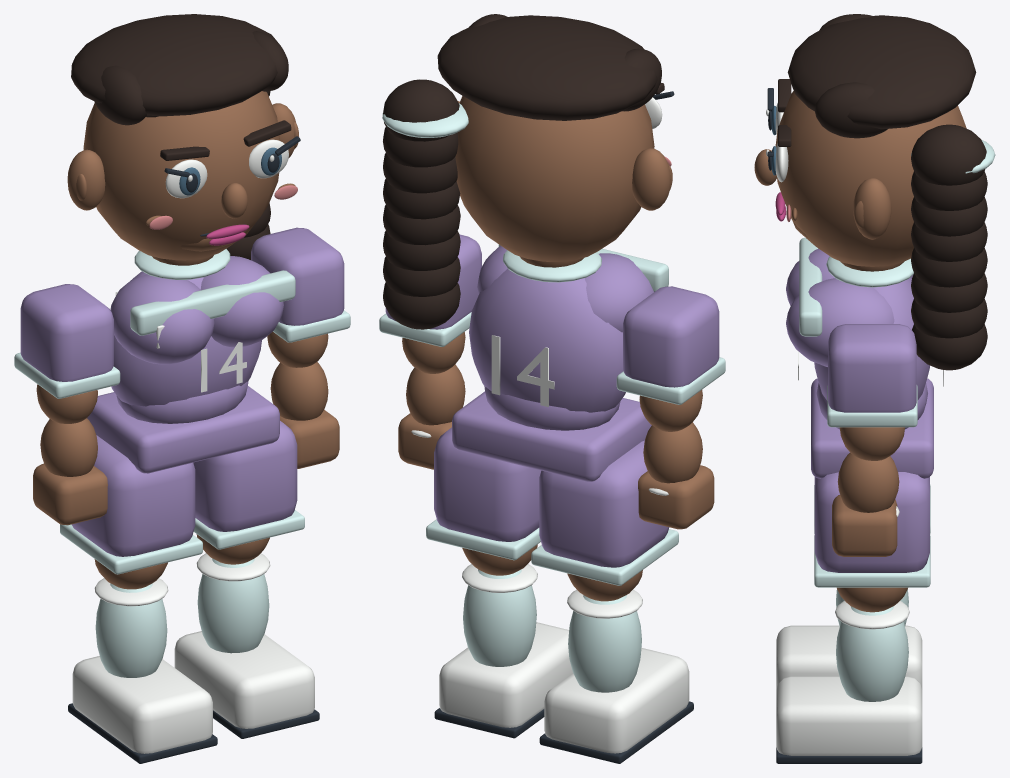
Rendered from Nehir.fbx.
3 views of the same model, side by side, from view 1: azimuth 30°, elevation 25°; view 2: azimuth 150°, elevation 25°; view 3: azimuth 270°, elevation 25° (orthographic). The views are drawn at different scales.
Visible parts, largest first — view 1: Head, HairCap, Boot_Left, Boot_Right, Shorts_Left, Waist, Shorts_Right, Sleeve_Left, Sleeve_Right, FittedTorso, TailoredChest, Sock_Left (+30 smaller); view 2: Head, HairCap, FittedTorso, Shorts_Left, Boot_Left, Waist, Shorts_Right, Sleeve_Left, Boot_Right, Sock_Left, Sock_Right, Hand_Left (+33 smaller); view 3: Head, HairCap, Boot_Right, Sleeve_Right, Shorts_Right, Sock_Right, TailoredChest.001, Waist, Boot_Left, LongCurlyPonytail, Hand_Right, Forearm_Right (+22 smaller).
Boxes of the visible parts, x1,y1,x2,y2 form: Head: (83, 91, 279, 260); HairCap: (71, 14, 280, 116); Boot_Left: (72, 656, 212, 753); Boot_Right: (174, 631, 314, 728); Shorts_Left: (71, 435, 195, 556); Waist: (87, 386, 279, 473); Shorts_Right: (193, 421, 297, 531); Sleeve_Left: (20, 284, 113, 381); Sleeve_Right: (251, 227, 344, 325); FittedTorso: (111, 271, 261, 406); TailoredChest: (110, 274, 214, 364); Sock_Left: (95, 583, 167, 677); Head: (455, 96, 654, 261); HairCap: (437, 15, 657, 120); FittedTorso: (469, 268, 625, 412); Shorts_Left: (539, 440, 669, 567); Boot_Left: (544, 647, 689, 753); Waist: (452, 391, 651, 481); Shorts_Right: (434, 427, 541, 541); Sleeve_Left: (623, 286, 719, 387); Boot_Right: (439, 622, 572, 727); Sock_Left: (568, 595, 641, 692); Sock_Right: (463, 569, 536, 666); Hand_Left: (638, 465, 714, 529); Head: (775, 91, 966, 266); HairCap: (787, 15, 976, 129); Boot_Right: (776, 676, 922, 755); Sleeve_Right: (828, 324, 916, 412); Shorts_Right: (814, 472, 929, 572); Sock_Right: (836, 606, 908, 701); TailoredChest.001: (786, 278, 894, 366); Waist: (811, 378, 933, 478); Boot_Left: (776, 625, 922, 689); LongCurlyPonytail: (911, 124, 986, 185); Hand_Right: (832, 495, 897, 556); Forearm_Right: (837, 452, 899, 512).
Size of the model in its own units: 89.5 by 195 by 62.65.
